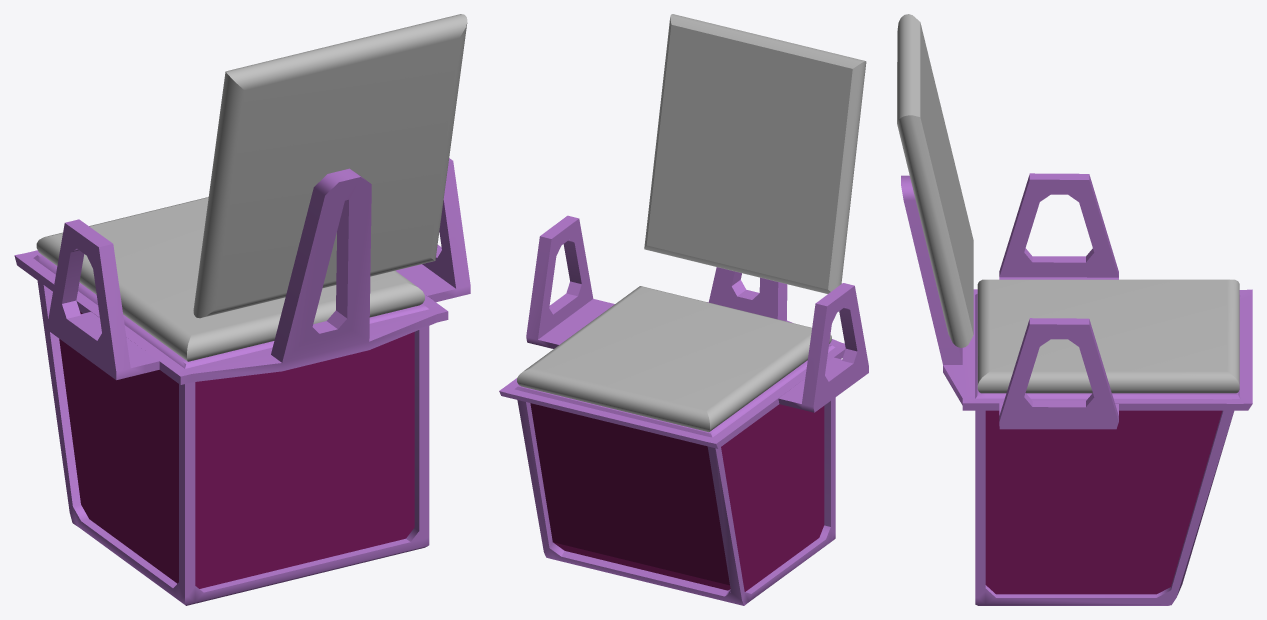
File: chairModernCushion.glb
3 renders of one model, left to right at view 1: azimuth 30°, elevation 25°; view 2: azimuth 150°, elevation 25°; view 3: azimuth 270°, elevation 25°, orthographic. The views are drawn at different scales.
Visible parts, largest first — view 1: chairModernCushion; view 2: chairModernCushion; view 3: chairModernCushion.
Boxes of the visible parts, x1=… form: chairModernCushion: x1=14, y1=14, x2=470, y2=605; chairModernCushion: x1=499, y1=14, x2=868, y2=605; chairModernCushion: x1=897, y1=14, x2=1252, y2=605.
Bounding box in the file's own units: 0.5722 × 0.8678 × 0.5703.
